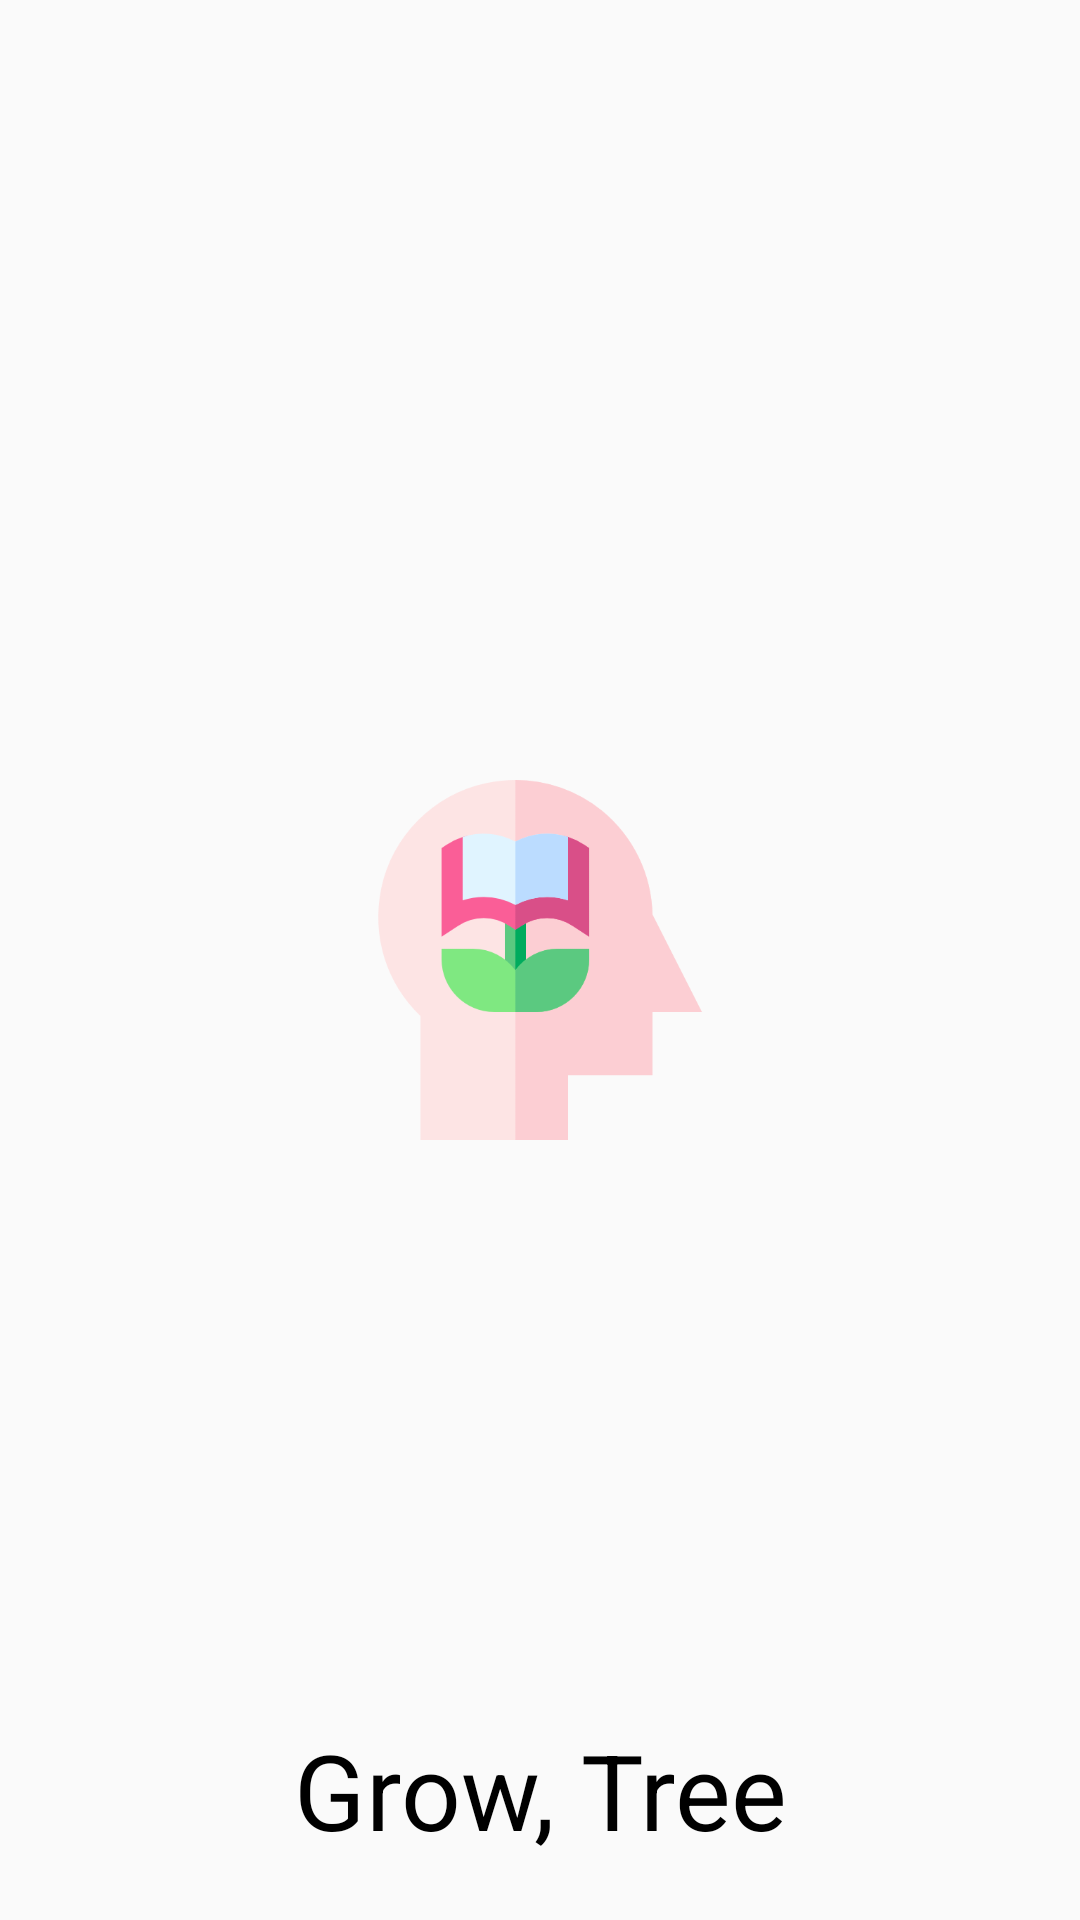

Named icons in this screenshot (1080 × 1920) and their bounding boxes, (x1, y1, x2, y2):
knowledge: (441, 780, 702, 1140)
